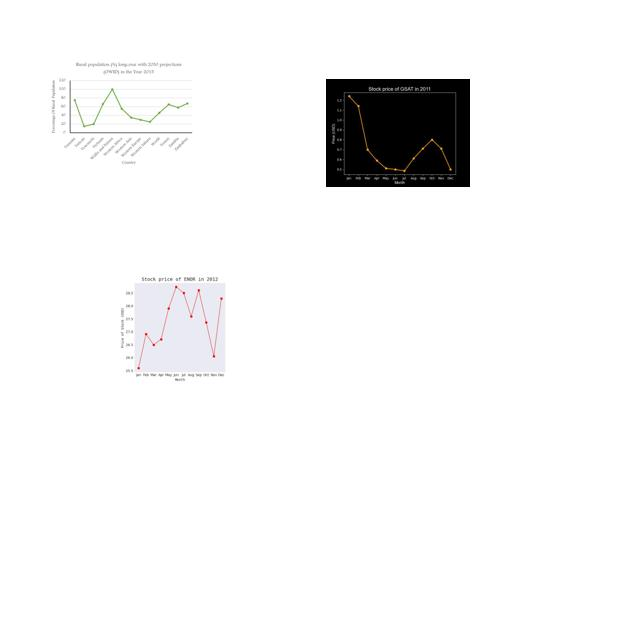Graph: (101, 269, 255, 385), (326, 79, 470, 187), (49, 60, 194, 167)
